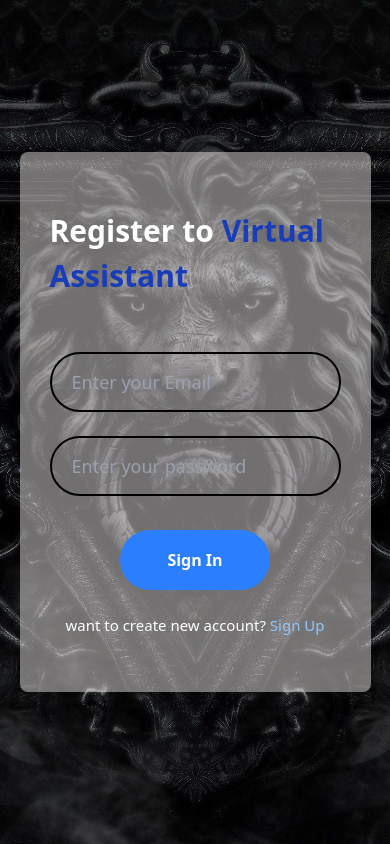
Test: SignIn Component › shows error when backend does not return token
In the field with placeholder "Enter your Email": (195, 382) [50, 352, 340, 412], type "test@example.com"
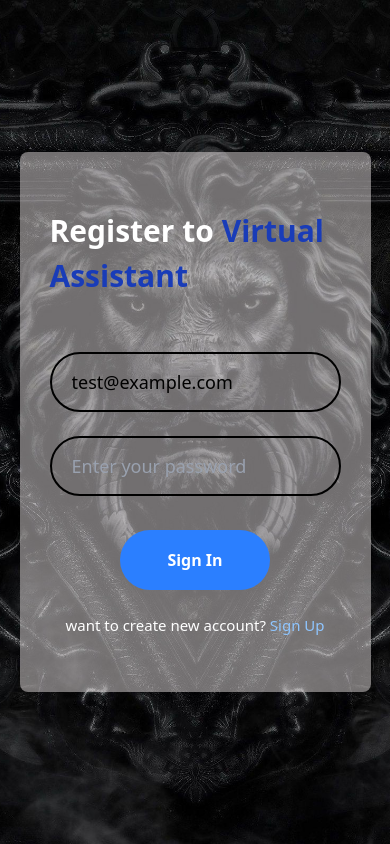
In the password field with placeholder "Enter your password": (195, 466) [52, 438, 338, 494], type "password123"
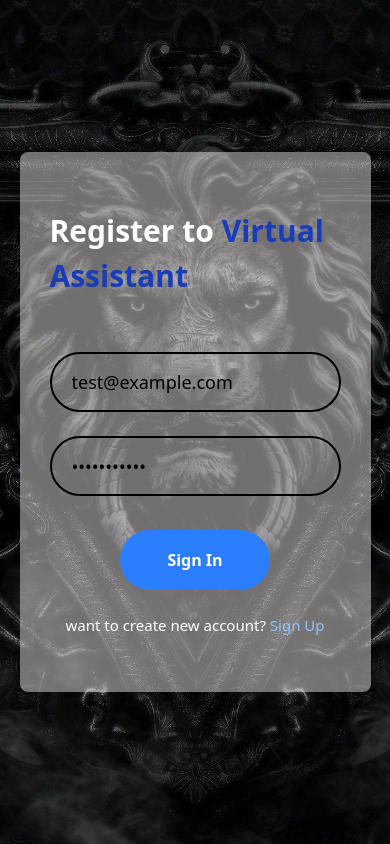
Click the button "Sign In": (195, 560) [120, 530, 270, 590]
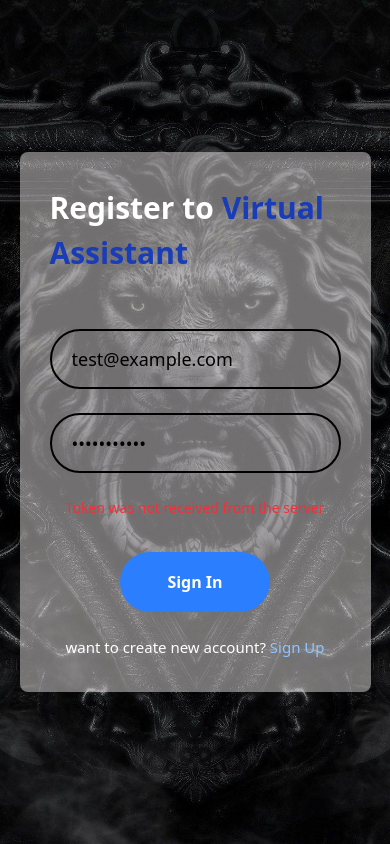
Check: the text "Token was not received from the server" is shown, box [66, 497, 324, 518]
